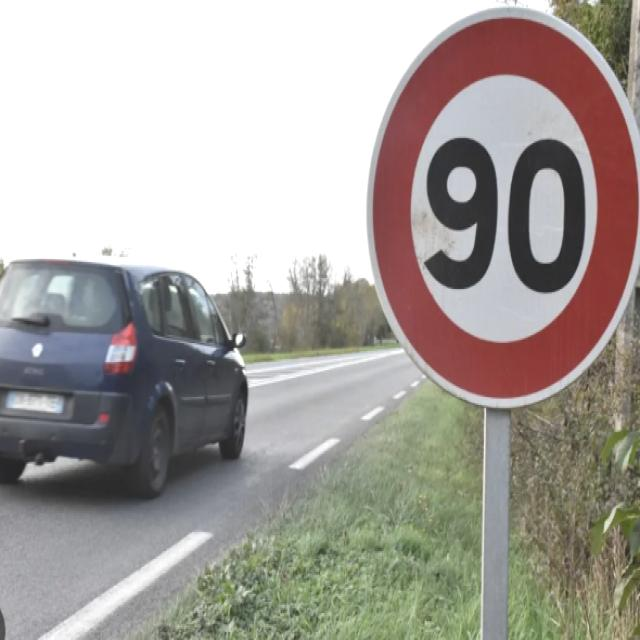speed_90: (365, 6, 640, 411)
